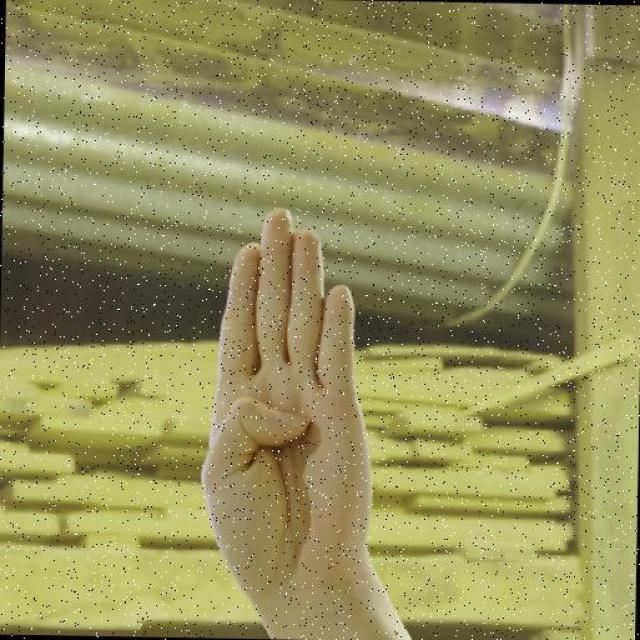B: (194, 200, 380, 604)
